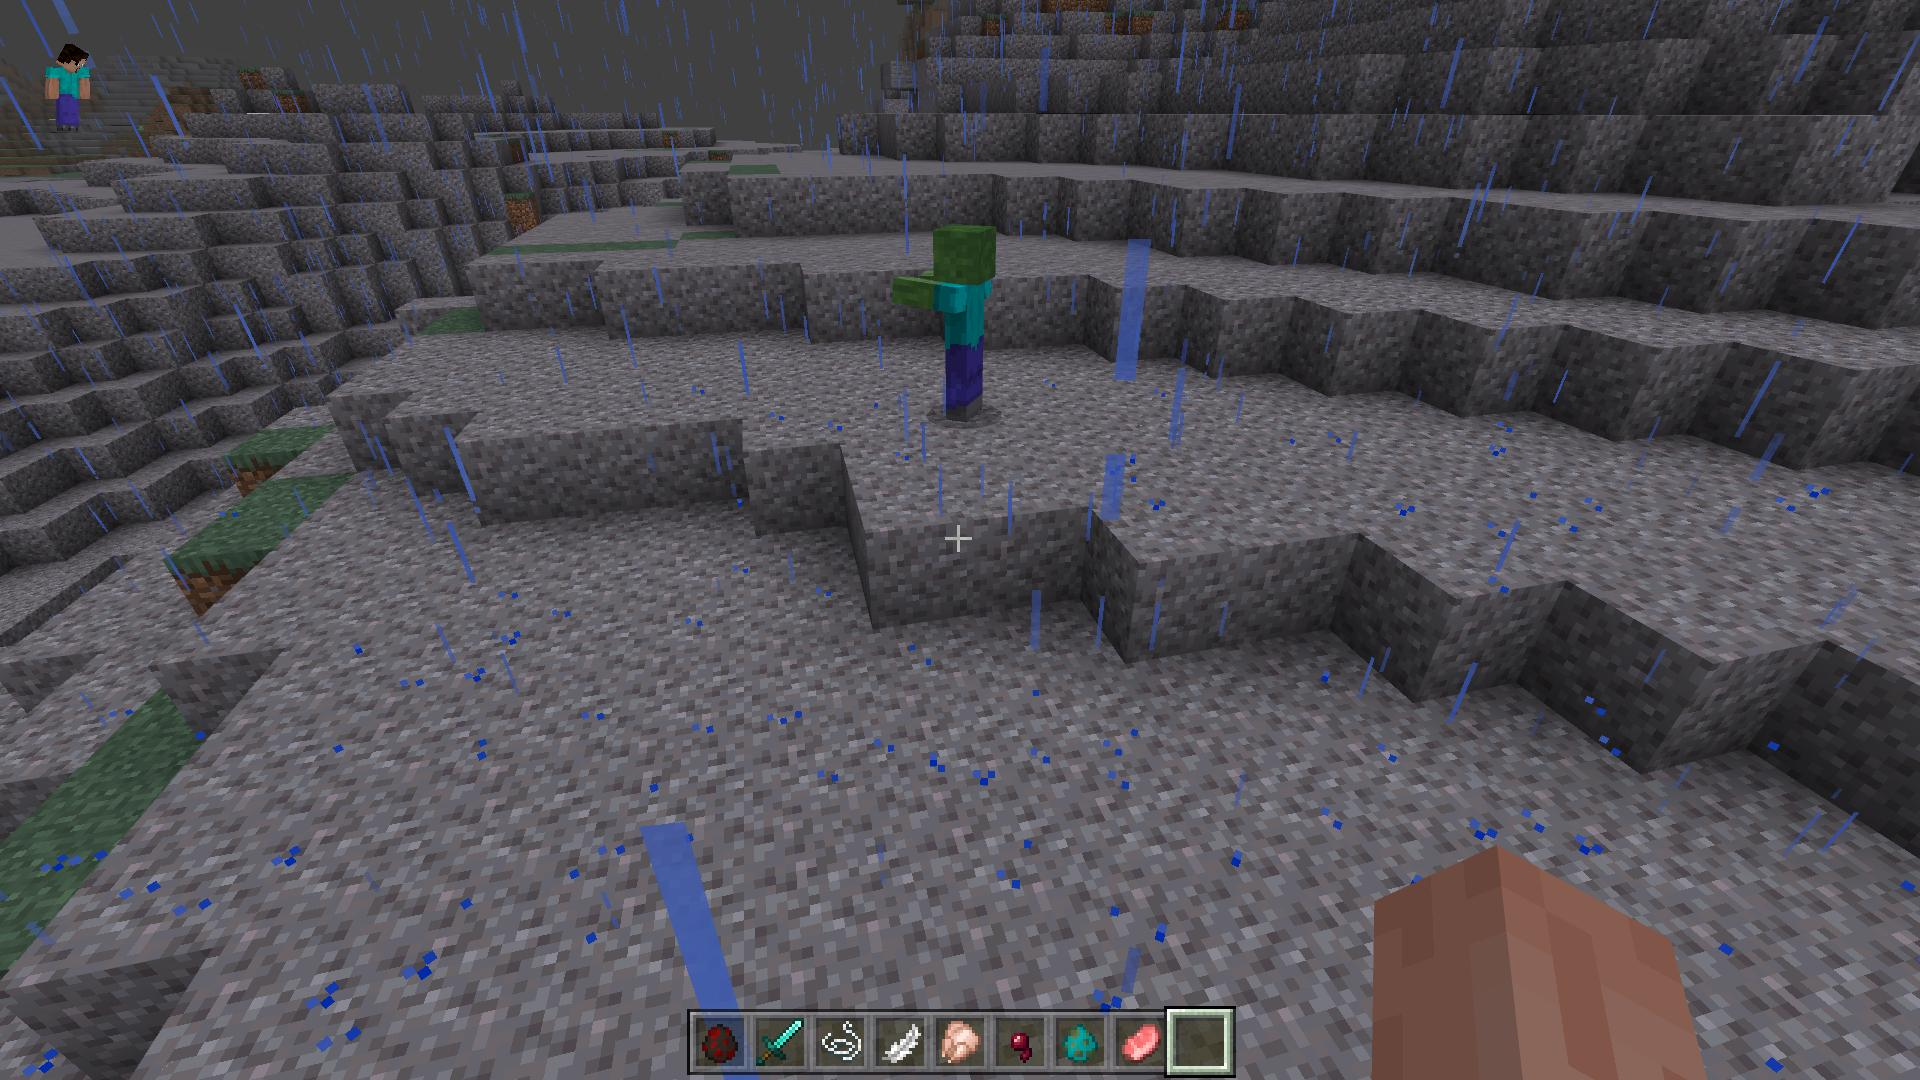zombie: (889, 225, 1005, 429)
